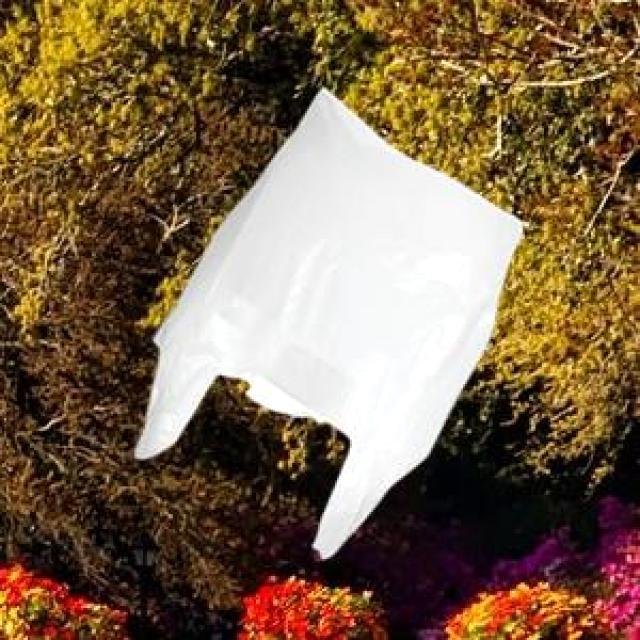Plastic_Bag: (131, 84, 520, 556)
